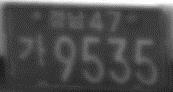3: (107, 37, 132, 83)
4: (87, 10, 105, 33)
5: (80, 36, 104, 83), (135, 38, 158, 86)
7: (107, 11, 122, 31)
9: (53, 36, 77, 82)
가: (14, 32, 47, 63)
경남_O: (48, 10, 85, 29)
